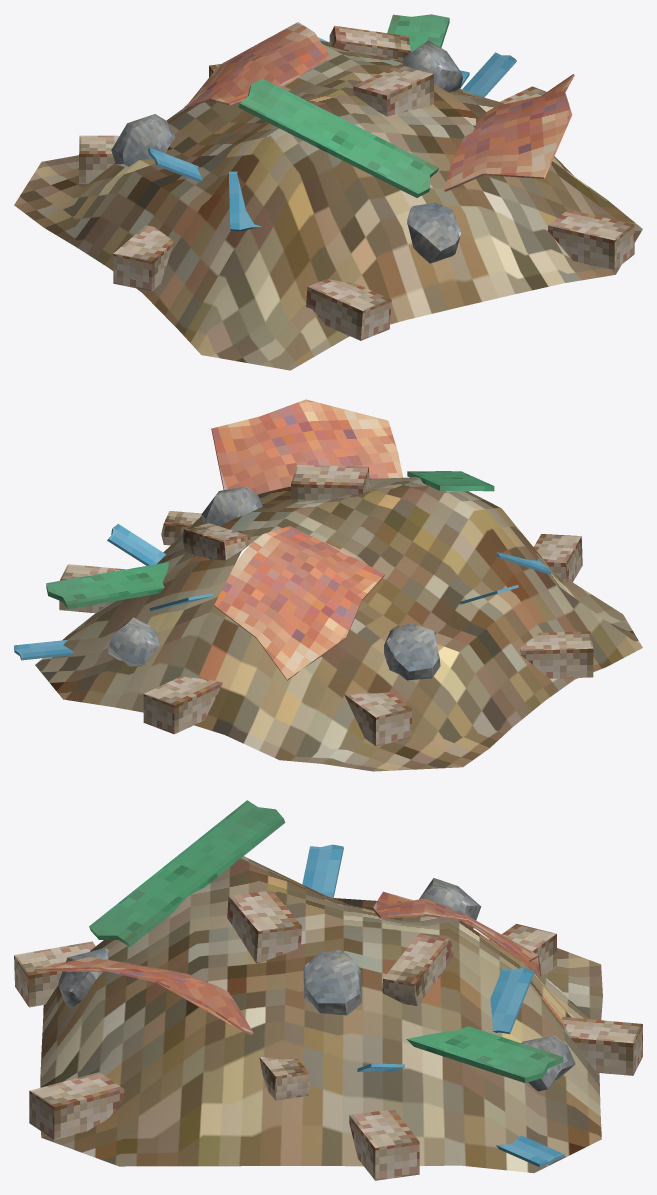
Rendered from Bsura_02.fbx.
3 views of the same model, one above another, from view 1: azimuth 30°, elevation 25°; view 2: azimuth 150°, elevation 25°; view 3: azimuth 270°, elevation 25° (orthographic). The views are drawn at different scales.
Parts seen in each view (by area): view 1: Plane.002; view 2: Plane.002; view 3: Plane.002.
Boxes of the visible parts, left/top/right/bottom form: Plane.002: left=14, top=14, right=642, bottom=370; Plane.002: left=14, top=399, right=642, bottom=771; Plane.002: left=14, top=800, right=642, bottom=1180.
Size of the model in its own units: 367 by 137 by 368.
1 material, 1 textured.
